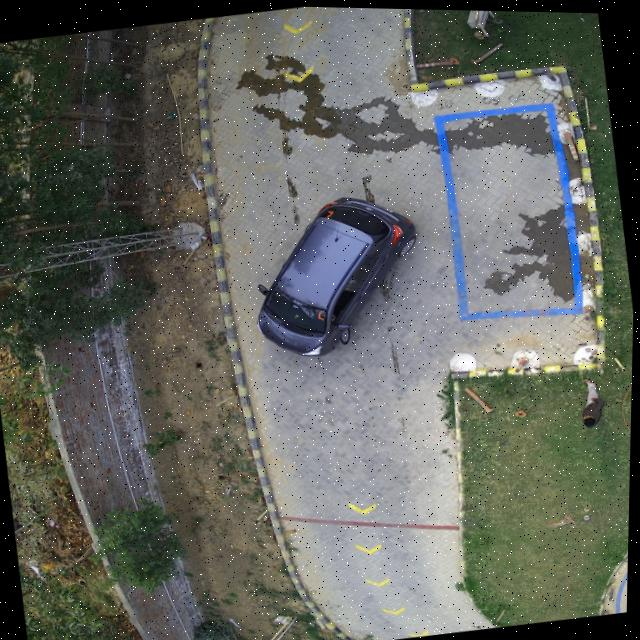car: (260, 194, 417, 355)
